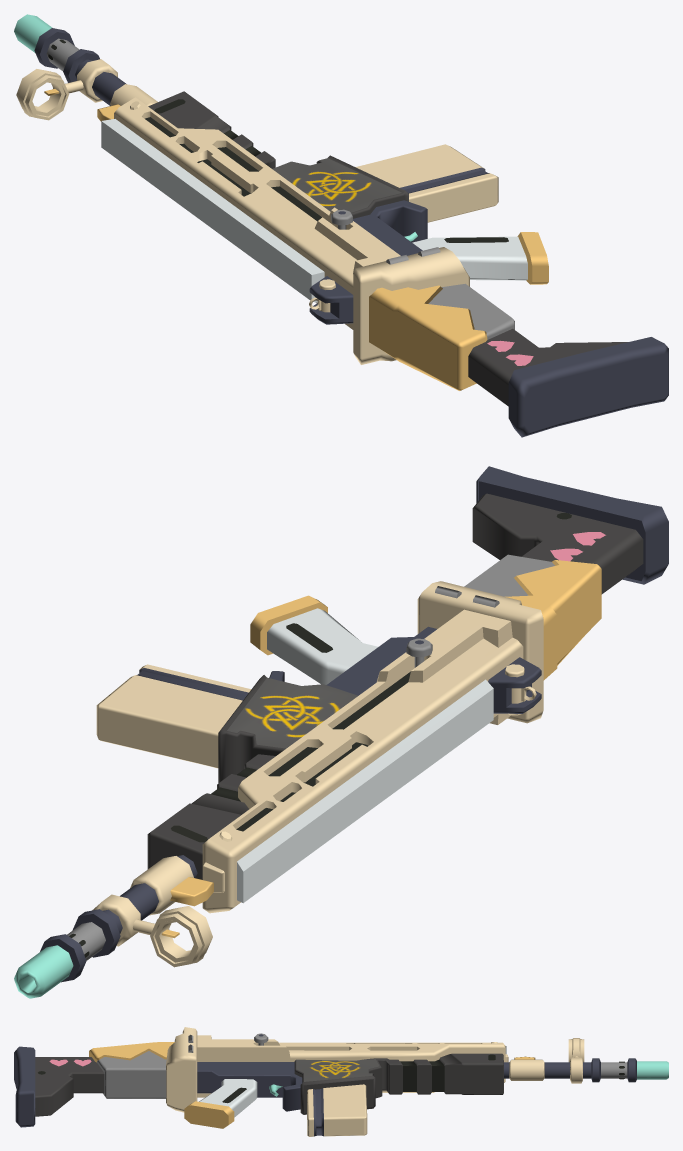
Rendered from shimiko.glb.
3 renders of one model, top to bottom at view 1: azimuth 30°, elevation 25°; view 2: azimuth 150°, elevation 25°; view 3: azimuth 270°, elevation 25°, orthographic. The views are drawn at different scales.
Parts seen in each view (by area): view 1: Shimiko_Original_Weapon; view 2: Shimiko_Original_Weapon; view 3: Shimiko_Original_Weapon.
Part boxes in pixels (x1=…): Shimiko_Original_Weapon: x1=14, y1=14, x2=668, y2=437; Shimiko_Original_Weapon: x1=14, y1=466, x2=668, y2=998; Shimiko_Original_Weapon: x1=14, y1=1027, x2=668, y2=1136.
Bounding box in the file's own units: 0.1664 × 0.0607 × 0.561.
1 material, 1 textured.
